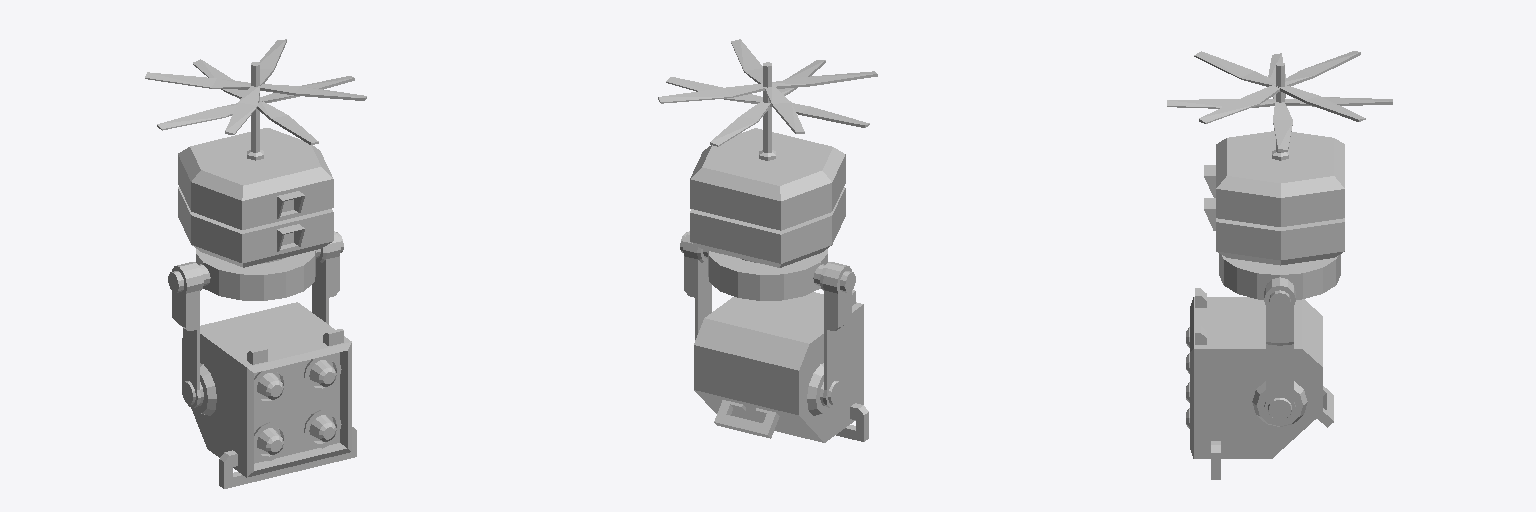
The model's file is missiledrone.obj.
3 renders of one model, left to right at view 1: azimuth 30°, elevation 25°; view 2: azimuth 150°, elevation 25°; view 3: azimuth 270°, elevation 25°, orthographic.
Visible parts, largest first — view 1: missledrone1, missledrone2; view 2: missledrone1, missledrone2; view 3: missledrone1, missledrone2.
Part boxes in pixels (left/top/right/bottom): missledrone1: left=168, top=62, right=356, bottom=488; missledrone2: left=145, top=39, right=366, bottom=144; missledrone1: left=680, top=62, right=868, bottom=442; missledrone2: left=658, top=39, right=877, bottom=146; missledrone1: left=1186, top=62, right=1344, bottom=479; missledrone2: left=1167, top=51, right=1392, bottom=151.
Size of the model in its own units: 8.17 by 15.3 by 8.17.